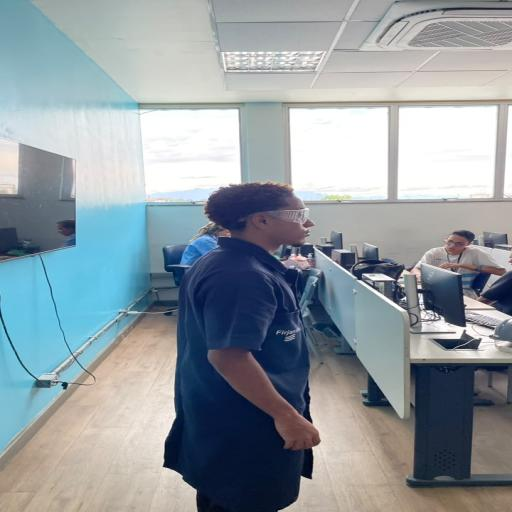OCULOS: (248, 208, 310, 224)
